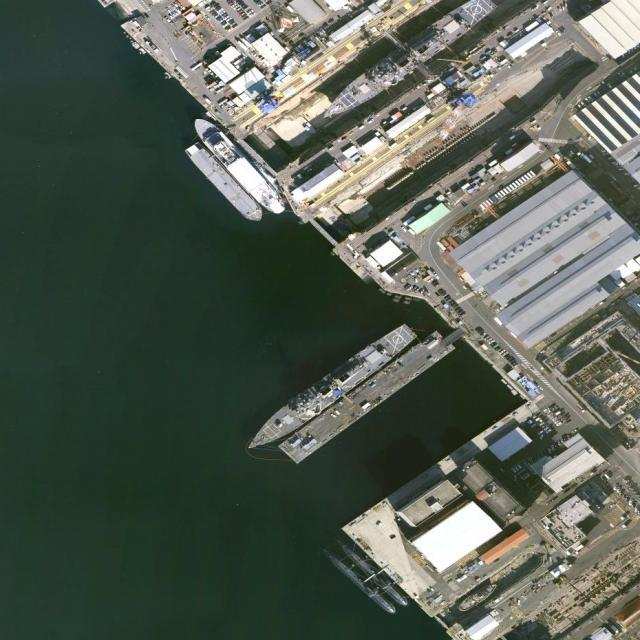Destroyer: (239, 317, 420, 460)
Dock: (283, 326, 455, 466)
Other Ship: (188, 111, 290, 220), (183, 138, 267, 230)
Submarine: (341, 542, 407, 607), (329, 555, 396, 614)
